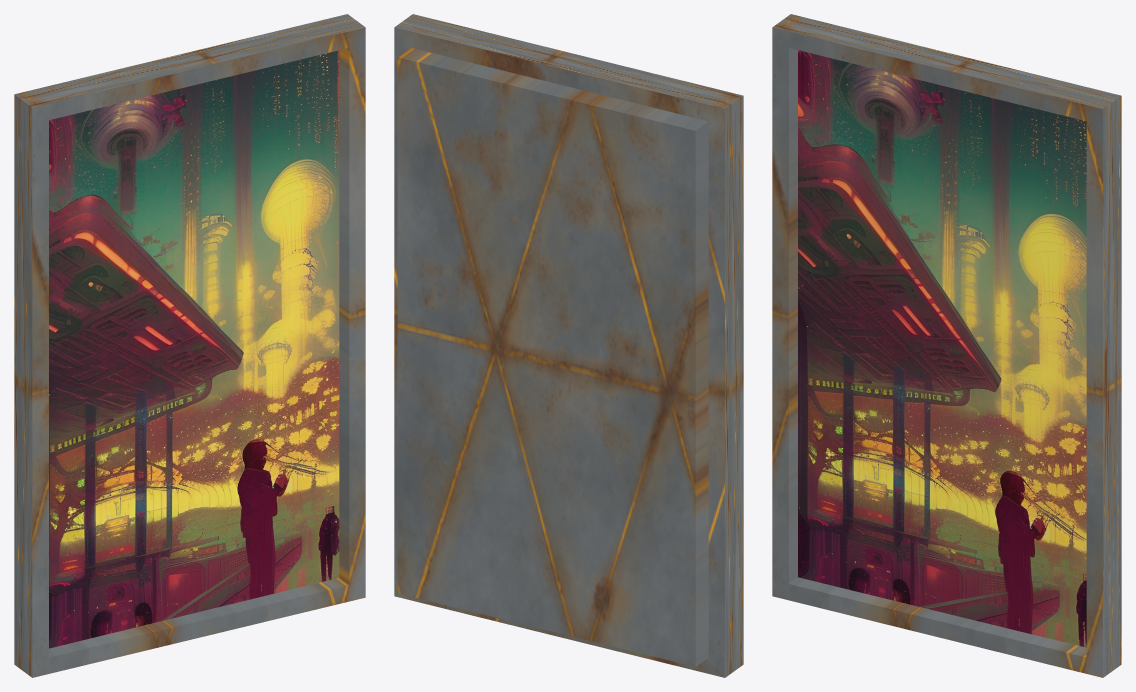
File: advert1.glb
3 views of the same model, side by side, from view 1: azimuth 30°, elevation 25°; view 2: azimuth 150°, elevation 25°; view 3: azimuth 330°, elevation 25° (orthographic).
Parts seen in each view (by area): view 1: ADVERT1; view 2: ADVERT1; view 3: ADVERT1.
Boxes of the visible parts, x1,y1,x2,y2 form: ADVERT1: (14,14,365,677); ADVERT1: (394,14,743,677); ADVERT1: (772,14,1121,677).
Bounding box in the file's own units: 5.52 × 9.04 × 0.9279.
Materials: 2 (2 with a texture image).
